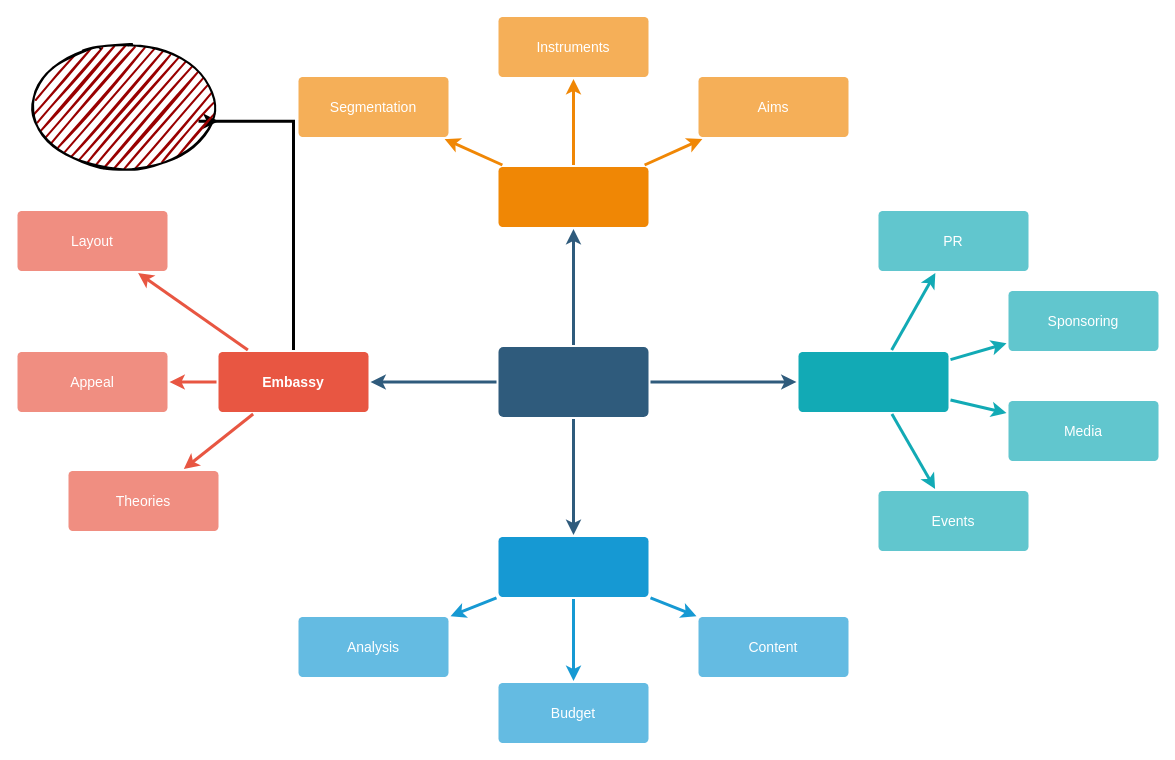
The diagram is 1175 pixels wide and 760 high, and some of its shapes have lost their labels. Each missing label, with the centre of its shape:
Advertising: (573,381)
Communication: (873,382)
jhjkhjkhjkhkjhkjh: (123,107)
Marketing: (573,196)
Organization: (573,566)
